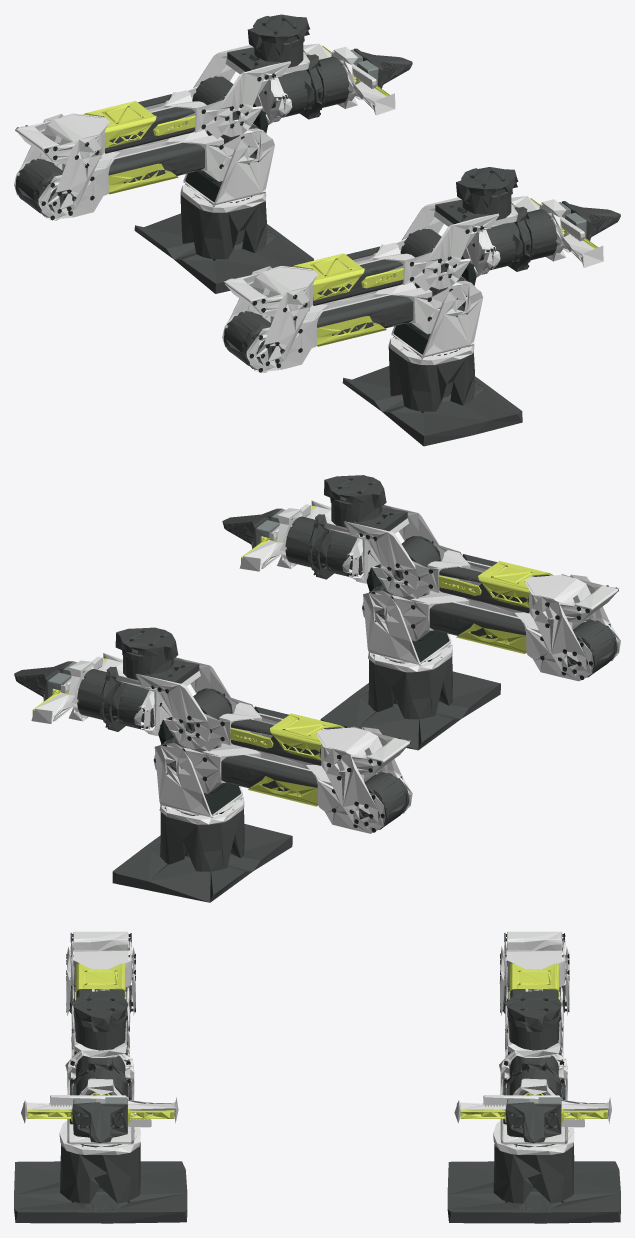
Rendered from rebot.glb.
3 views of the same model, one above another, from view 1: azimuth 30°, elevation 25°; view 2: azimuth 150°, elevation 25°; view 3: azimuth 270°, elevation 25° (orthographic). The views are drawn at different scales.
Parts seen in each view (by area): view 1: rebot_1/base/1, rebot_0/base/1, rebot_0/link3/17, rebot_1/link3/17, rebot_0/link2/13, rebot_1/link2/13, rebot_1/link2/11, rebot_0/link2/11, rebot_0/link4/20, rebot_1/link4/20, rebot_0/link4/19, rebot_1/link4/19 (+22 smaller); view 2: rebot_0/base/1, rebot_1/base/1, rebot_1/link3/17, rebot_0/link3/17, rebot_0/link2/13, rebot_1/link2/13, rebot_0/link2/11, rebot_1/link2/11, rebot_0/link4/20, rebot_1/link4/20, rebot_0/link4/19, rebot_1/link4/19 (+22 smaller); view 3: rebot_1/base/1, rebot_0/base/1, rebot_0/link3/17, rebot_1/link3/17, rebot_0/link4/19, rebot_1/link4/19, rebot_0/gripper/6, rebot_1/gripper/6, rebot_0/link3/16, rebot_1/link3/16, rebot_1/gripper/4, rebot_0/gripper/4 (+16 smaller).
Part boxes in pixels (x1=…): rebot_1/base/1: x1=342, y1=346, x2=522, y2=446; rebot_0/base/1: x1=134, y1=194, x2=313, y2=293; rebot_0/link3/17: x1=15, y1=76, x2=225, y2=216; rebot_1/link3/17: x1=223, y1=228, x2=433, y2=368; rebot_0/link2/13: x1=14, y1=128, x2=267, y2=220; rebot_1/link2/13: x1=222, y1=280, x2=475, y2=372; rebot_1/link2/11: x1=224, y1=276, x2=467, y2=368; rebot_0/link2/11: x1=15, y1=124, x2=259, y2=216; rebot_0/link4/20: x1=193, y1=45, x2=309, y2=137; rebot_1/link4/20: x1=401, y1=197, x2=517, y2=289; rebot_0/link4/19: x1=227, y1=14, x2=309, y2=120; rebot_1/link4/19: x1=435, y1=167, x2=518, y2=272; rebot_0/base/1: x1=112, y1=808, x2=292, y2=902; rebot_1/base/1: x1=320, y1=656, x2=500, y2=750; rebot_1/link3/17: x1=380, y1=539, x2=618, y2=676; rebot_0/link3/17: x1=172, y1=691, x2=410, y2=828; rebot_0/link2/13: x1=153, y1=742, x2=412, y2=833; rebot_1/link2/13: x1=362, y1=590, x2=620, y2=681; rebot_0/link2/11: x1=160, y1=736, x2=409, y2=829; rebot_1/link2/11: x1=369, y1=584, x2=617, y2=677; rebot_0/link4/20: x1=116, y1=657, x2=231, y2=749; rebot_1/link4/20: x1=324, y1=504, x2=439, y2=596; rebot_0/link4/19: x1=115, y1=627, x2=199, y2=733; rebot_1/link4/19: x1=324, y1=475, x2=407, y2=580; rebot_1/base/1: x1=14, y1=1142, x2=187, y2=1223; rebot_0/base/1: x1=447, y1=1143, x2=620, y2=1223; rebot_0/link3/17: x1=499, y1=931, x2=569, y2=1051; rebot_1/link3/17: x1=66, y1=931, x2=135, y2=1051; rebot_0/link4/19: x1=506, y1=990, x2=561, y2=1054; rebot_1/link4/19: x1=73, y1=990, x2=127, y2=1054; rebot_0/gripper/6: x1=454, y1=1078, x2=611, y2=1138; rebot_1/gripper/6: x1=21, y1=1078, x2=178, y2=1138; rebot_0/link3/16: x1=509, y1=963, x2=559, y2=999; rebot_1/link3/16: x1=75, y1=963, x2=125, y2=999; rebot_1/gripper/4: x1=73, y1=1058, x2=128, y2=1097; rebot_0/gripper/4: x1=506, y1=1058, x2=561, y2=1097.
Size of the model in its own units: 0.5382 by 0.2822 by 0.7.
